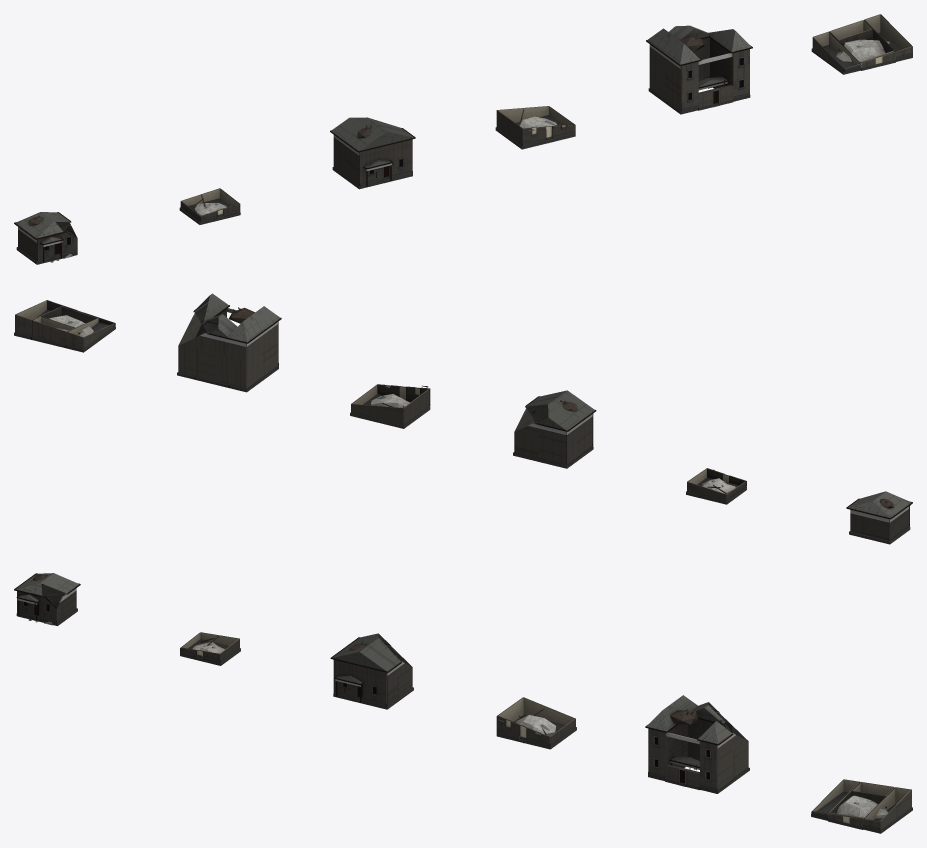
The model's file is modern-westafrica-houses-damage.glb.
3 renders of one model, top to bottom at view 1: azimuth 30°, elevation 25°; view 2: azimuth 150°, elevation 25°; view 3: azimuth 330°, elevation 25°, orthographic.
Parts seen in each view (by area): view 1: LOD0.004, LOD0.002, LOD0.005, LOD0, LOD0.003, LOD0.001; view 2: LOD0.004, LOD0.002, LOD0.005, LOD0.003, LOD0, LOD0.001; view 3: LOD0.004, LOD0.002, LOD0.005, LOD0.003, LOD0, LOD0.001.
Boxes of the visible parts, <box> form: LOD0.004: <box>646,25,752,114</box>; LOD0.002: <box>330,117,415,189</box>; LOD0.005: <box>811,14,912,74</box>; LOD0: <box>14,212,77,264</box>; LOD0.003: <box>495,106,575,149</box>; LOD0.001: <box>179,188,240,224</box>; LOD0.004: <box>177,293,281,392</box>; LOD0.002: <box>513,390,596,468</box>; LOD0.005: <box>14,300,115,352</box>; LOD0.003: <box>350,384,430,428</box>; LOD0: <box>846,491,912,544</box>; LOD0.001: <box>686,468,746,504</box>; LOD0.004: <box>645,695,749,793</box>; LOD0.002: <box>330,633,413,709</box>; LOD0.005: <box>811,779,912,833</box>; LOD0.003: <box>496,697,576,749</box>; LOD0: <box>14,573,80,625</box>; LOD0.001: <box>180,632,240,665</box>.
Size of what is drawn, in the model's own units: 16.05 by 1.15 by 1.09.
2 materials, 2 textured.
